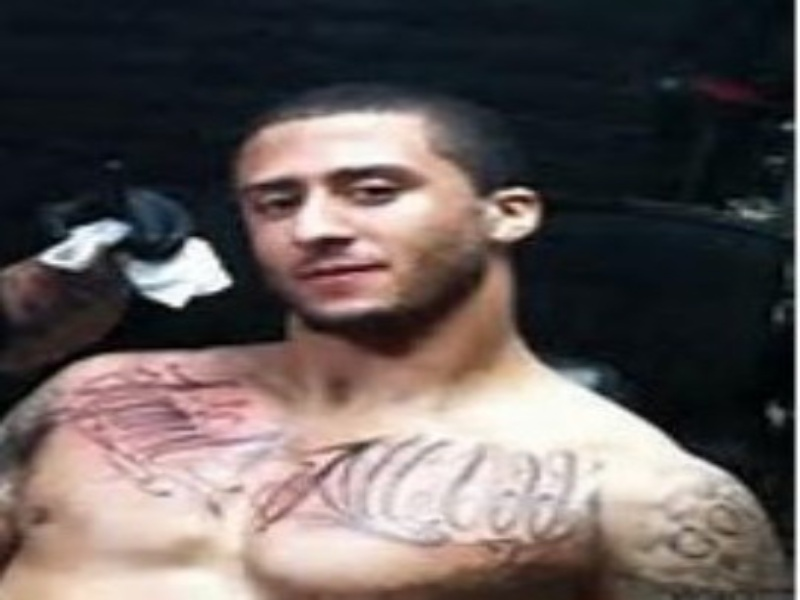TsisyArotava: (216, 59, 549, 354)
